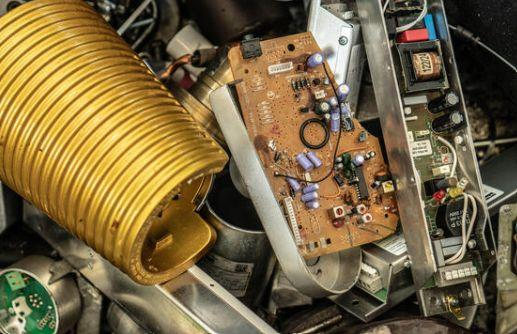electronic: (364, 11, 496, 313), (224, 33, 395, 261), (304, 2, 365, 107), (391, 3, 451, 99), (452, 21, 516, 101), (386, 1, 427, 31), (282, 197, 303, 245), (240, 37, 262, 59)
